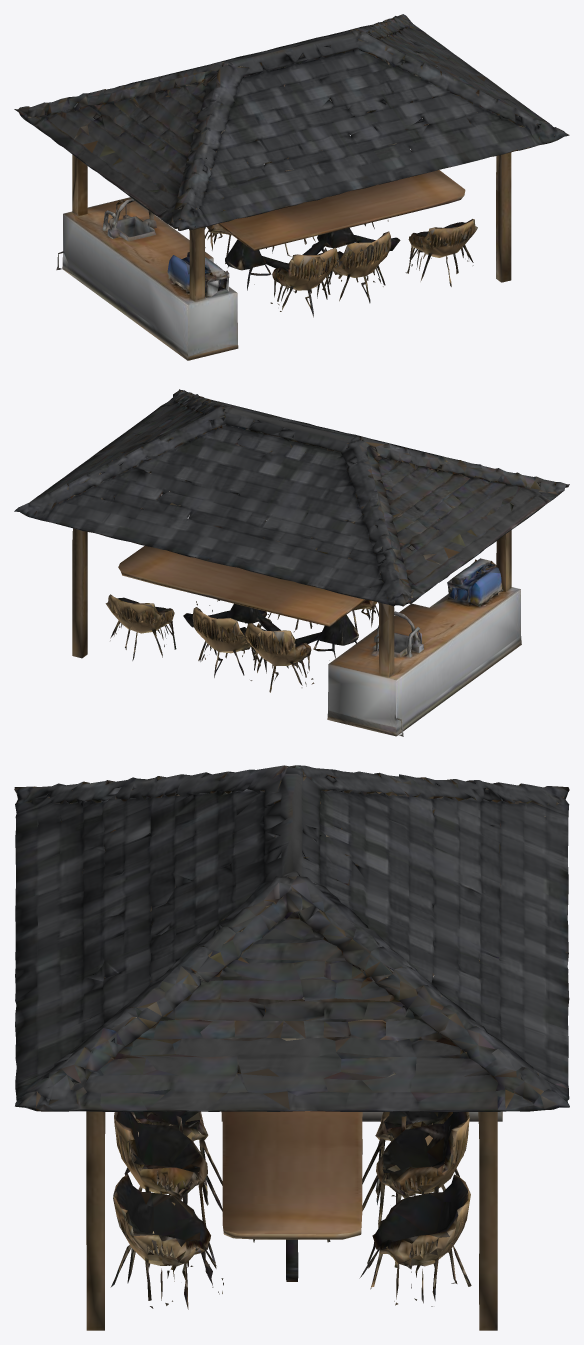
The model's file is Tiki_Pavilion.glb.
The picture shows the model from 3 angles, top to bottom: view 1: azimuth 30°, elevation 25°; view 2: azimuth 150°, elevation 25°; view 3: azimuth 270°, elevation 25°; orthographic projection. The views are drawn at different scales.
Visible parts, largest first — view 1: Tiki_Pavilion; view 2: Tiki_Pavilion; view 3: Tiki_Pavilion.
Part boxes in pixels (bbox=[...]): Tiki_Pavilion: bbox=[14, 14, 569, 360]; Tiki_Pavilion: bbox=[14, 389, 569, 736]; Tiki_Pavilion: bbox=[14, 765, 569, 1330].
Bounding box in the file's own units: 1.9 × 1.07 × 1.4.
Materials: 1 (1 with a texture image).
